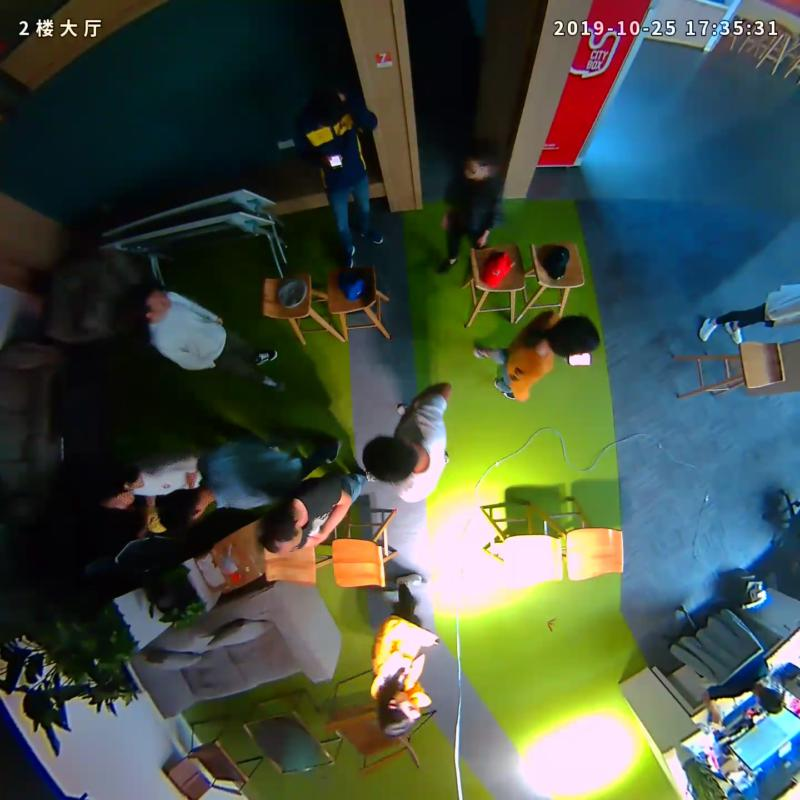head: (360, 435, 418, 481), (87, 463, 141, 511), (257, 506, 307, 555), (378, 685, 422, 736), (548, 314, 600, 357), (300, 81, 344, 127), (124, 282, 172, 319), (462, 139, 500, 179)
